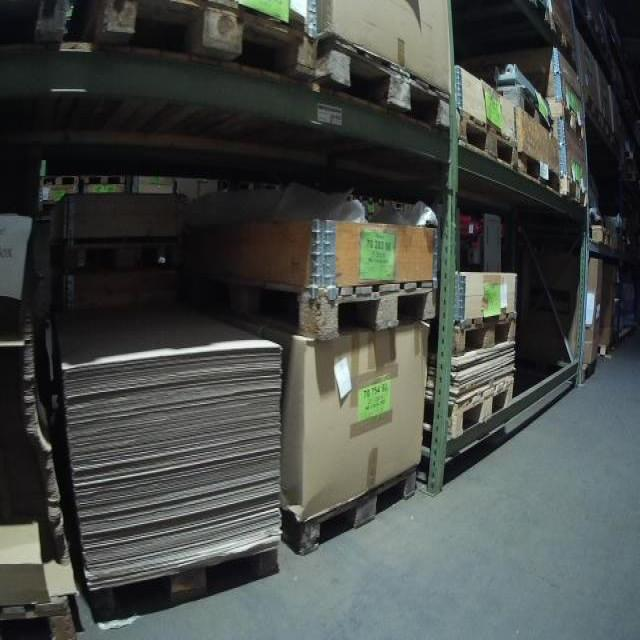pallet: (82, 1, 317, 84), (184, 271, 439, 340), (86, 546, 280, 622), (318, 32, 452, 133), (285, 464, 420, 559), (61, 234, 183, 276), (449, 373, 514, 440), (457, 109, 519, 170), (450, 310, 517, 360), (517, 149, 561, 194), (546, 94, 587, 140), (560, 175, 589, 209), (590, 223, 614, 247)
